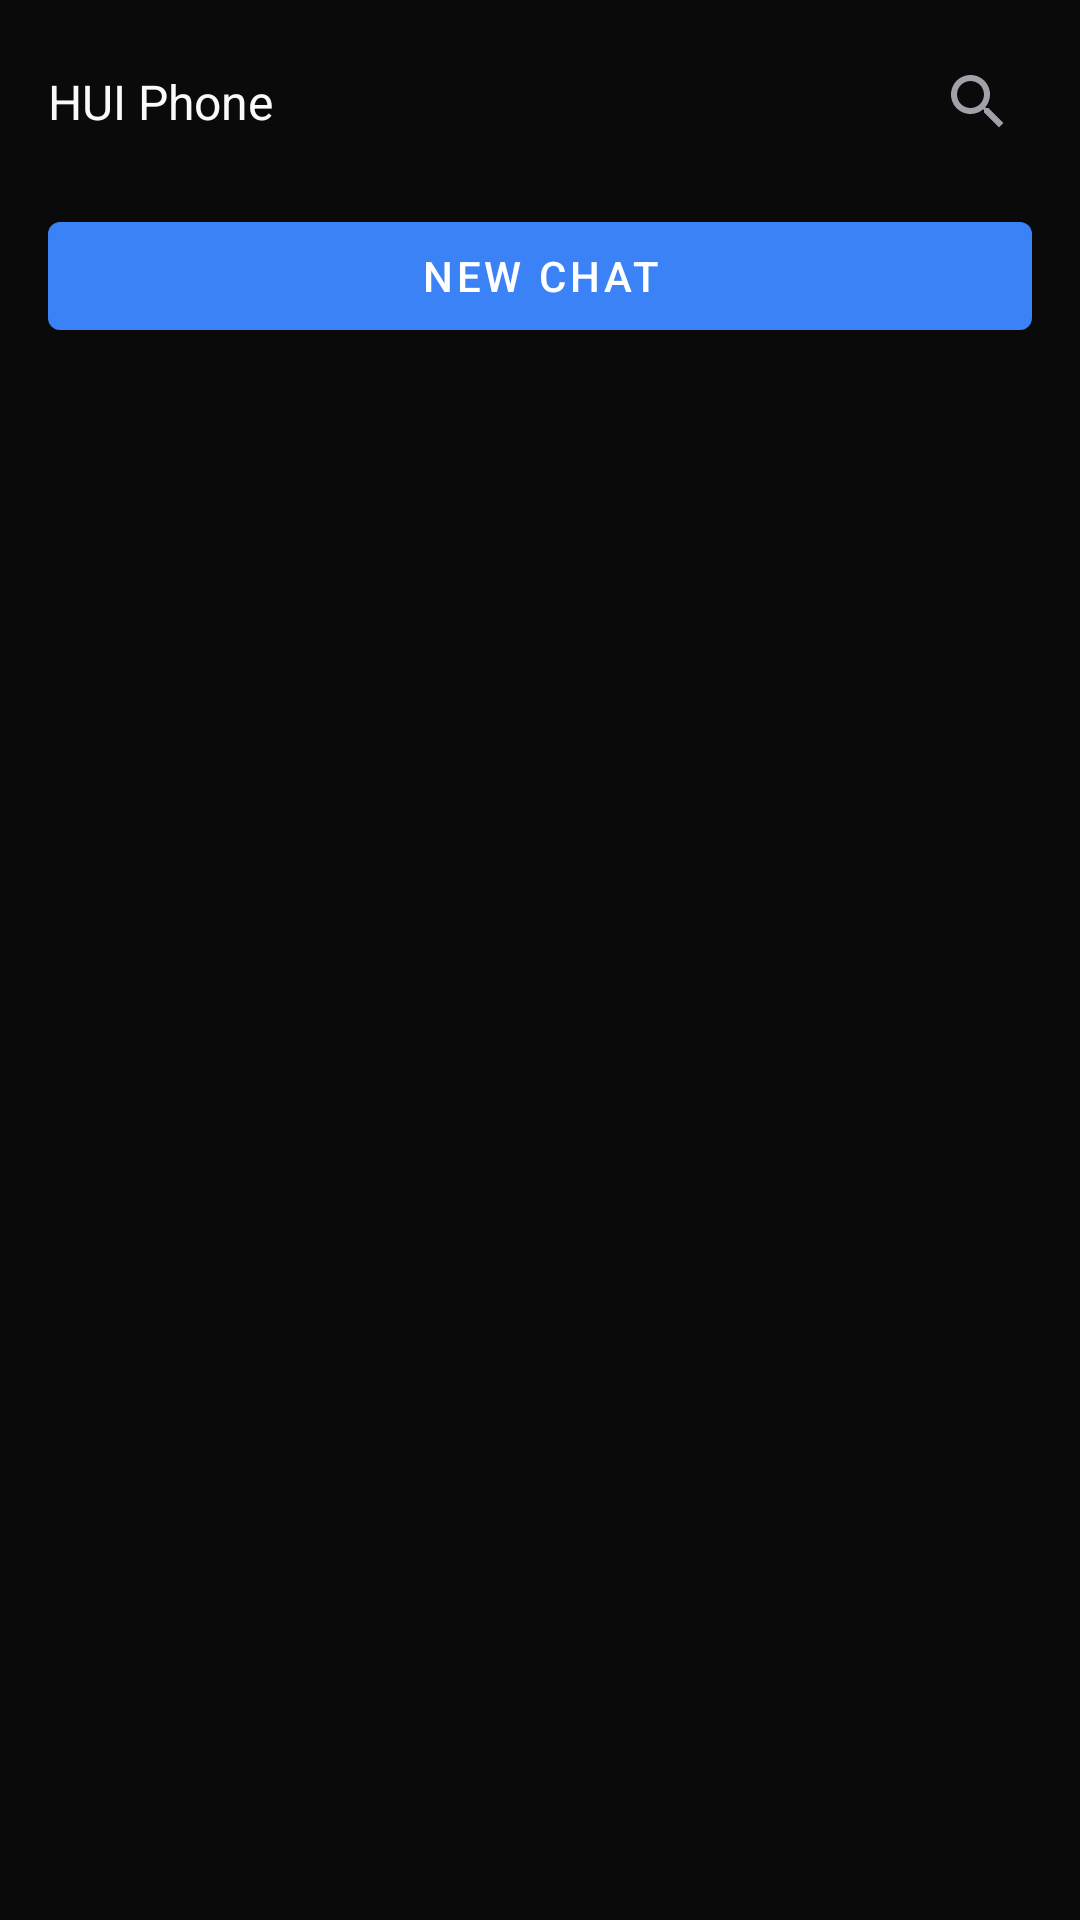

Screen size 1080*1920. Icon name, then its center in pixels as [x,y]:
Search chats: [977,101]
